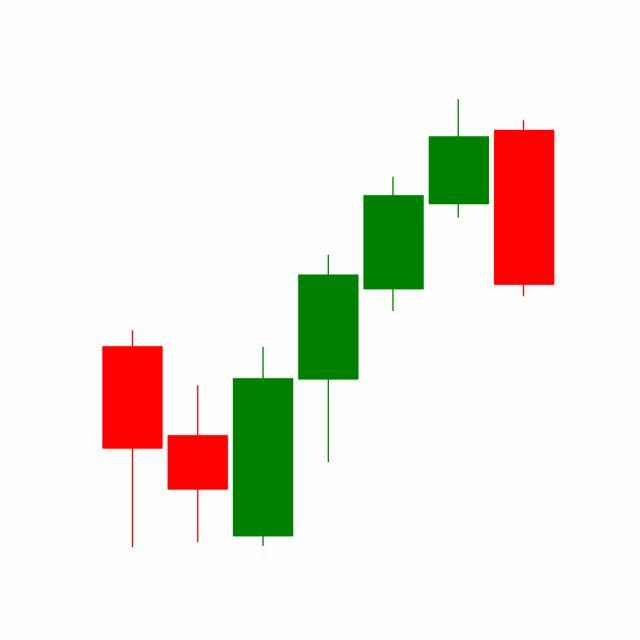Advance Block: (295, 100, 492, 468)
